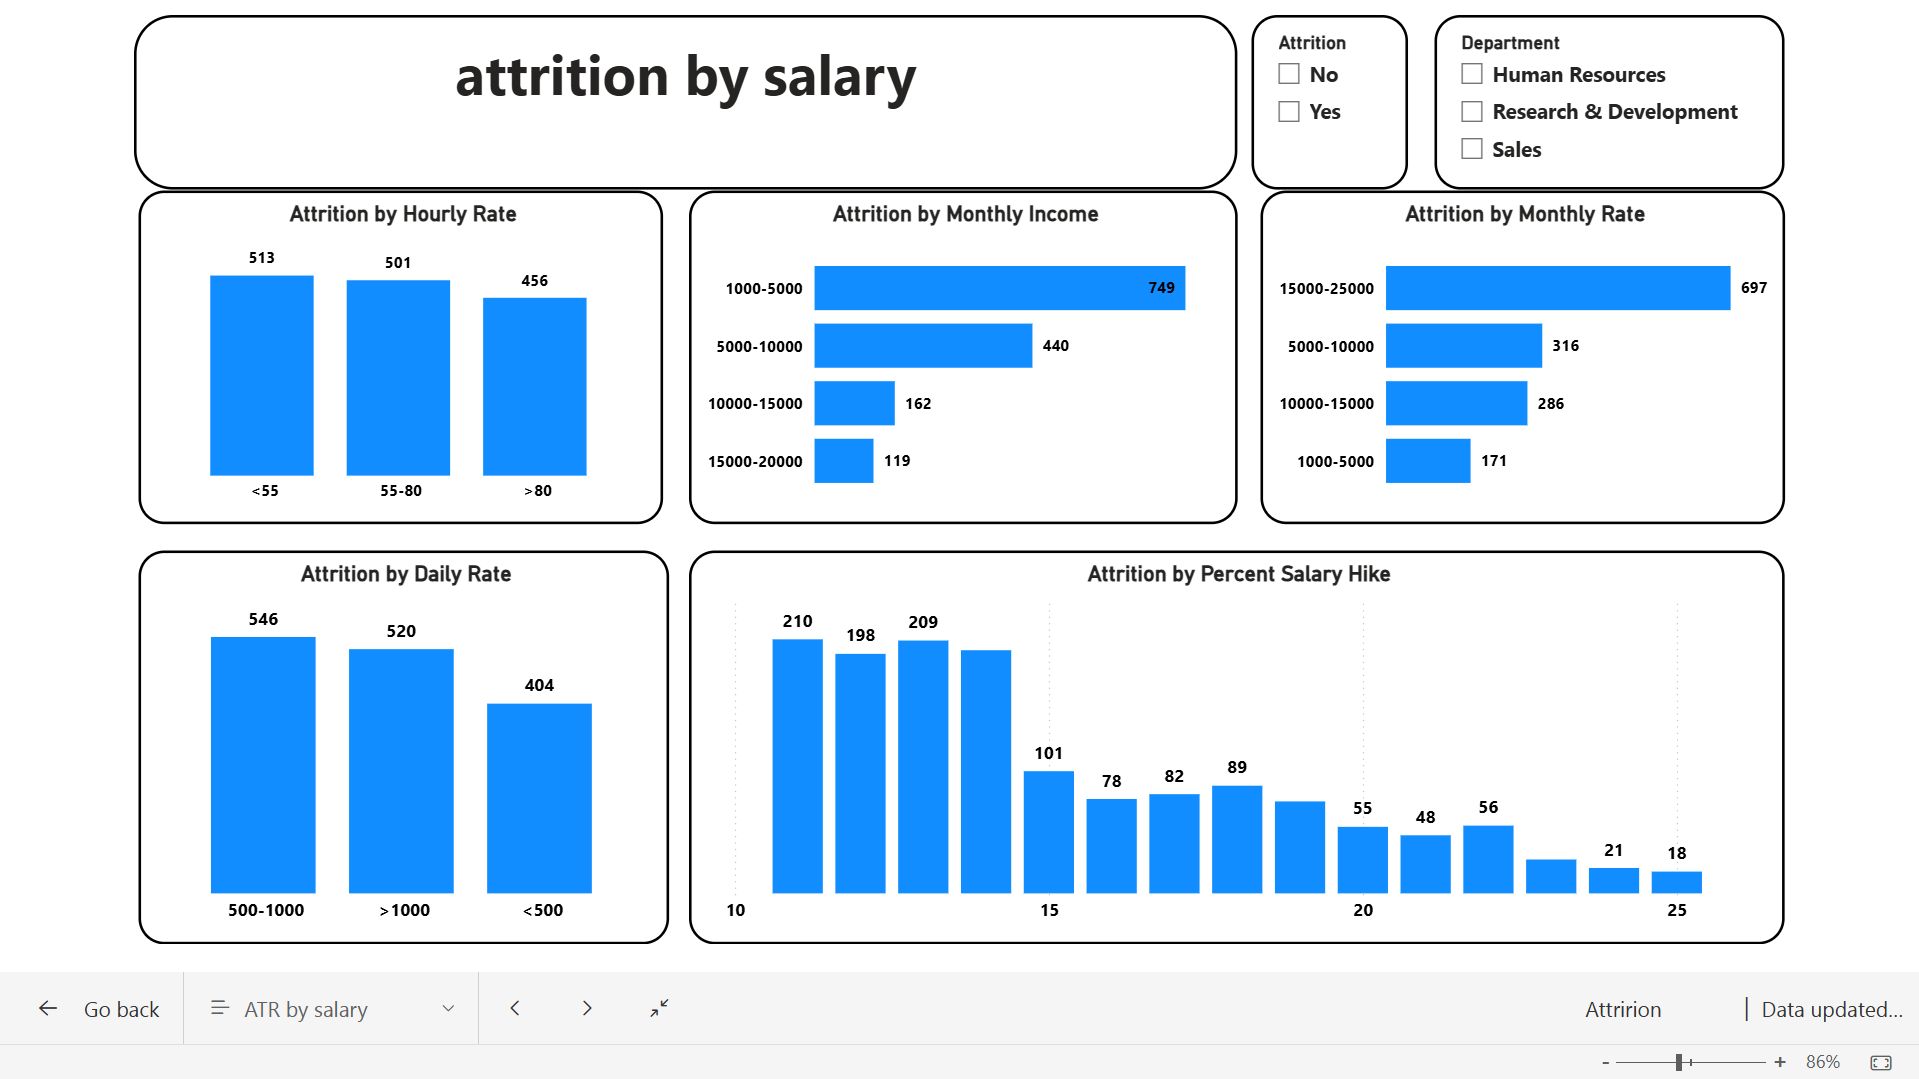

What the dashboard file says about the page in this screenshot:
{"tool":"powerbi","page":{"name":"ATR by salary","canvas":[1280,720],"ordinal":3},"visuals":[{"type":"clusteredColumnChart","title":"Attrition by Percent Salary Hike","fields":{"Category":["clean data.PercentSalaryHike"],"Y":["CountNonNull(clean data.Attrition)"]},"box":[430.1,414.5,849.4,305.5],"z":0},{"type":"textbox","box":[0,0,855.6,135.6],"z":1000},{"type":"clusteredColumnChart","title":"Attrition by Daily Rate","fields":{"Category":["clean data.DailyRate (groups)"],"Y":["CountNonNull(clean data.Attrition)"]},"box":[3.1,414.5,411.4,305.5],"z":2000},{"type":"clusteredColumnChart","title":"Attrition by Hourly Rate","fields":{"Category":["clean data.HourlyRate (groups)"],"Y":["CountNonNull(clean data.Attrition)"]},"box":[3.1,135.6,406.8,258.7],"z":3000},{"type":"clusteredBarChart","title":"Attrition by Monthly Income","fields":{"Category":["clean data.MonthlyIncome (groups)"],"Y":["CountNonNull(clean data.Attrition)"]},"box":[430.1,135.6,425.5,258.7],"z":4000},{"type":"clusteredBarChart","title":"Attrition by Monthly Rate","fields":{"Category":["clean data.MonthlyRate (groups)"],"Y":["CountNonNull(clean data.Attrition)"]},"box":[872.7,135.6,406.8,258.7],"z":5000},{"type":"slicer","fields":{"Values":["clean data.Department"]},"box":[1008.3,0,271.2,135.6],"z":6000},{"type":"slicer","fields":{"Values":["clean data.Attrition"]},"box":[866.5,0,121.6,135.6],"z":7000}]}

Visuals, with their boxes on the page's 1280x720 design canvas (x1, y1, x2, y2). These are canvas units, not pixel positions in the 1919x1079 screenshot, which may show the page scaled, cropped or inside an application window:
"Attrition by Percent Salary Hike" clusteredColumnChart: <region>430, 414, 1280, 720</region>
textbox: <region>0, 0, 856, 136</region>
"Attrition by Daily Rate" clusteredColumnChart: <region>3, 414, 414, 720</region>
"Attrition by Hourly Rate" clusteredColumnChart: <region>3, 136, 410, 394</region>
"Attrition by Monthly Income" clusteredBarChart: <region>430, 136, 856, 394</region>
"Attrition by Monthly Rate" clusteredBarChart: <region>873, 136, 1280, 394</region>
slicer - clean data.Department: <region>1008, 0, 1280, 136</region>
slicer - clean data.Attrition: <region>866, 0, 988, 136</region>
